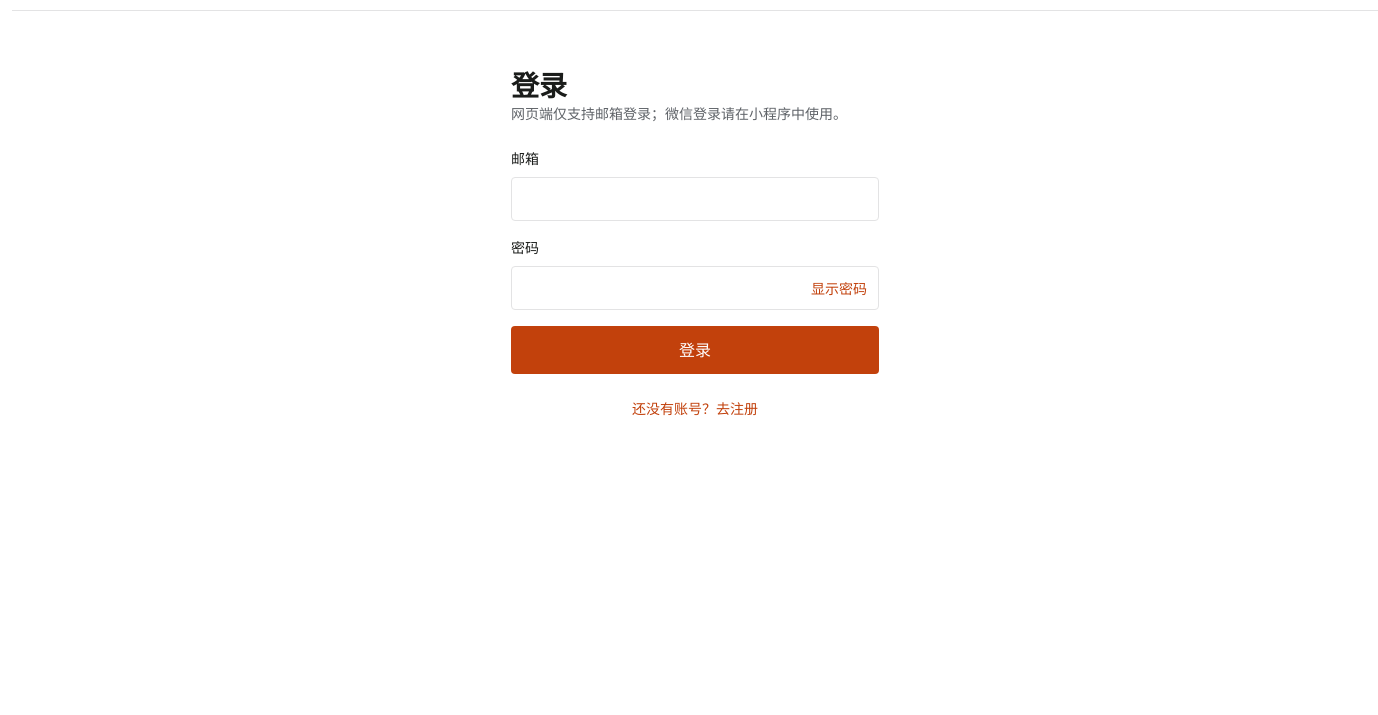
Test: success › navigates to /app on success
In the field labelled "邮箱": [695, 199] box 511,177 -> 879,221, type "a@b.c"
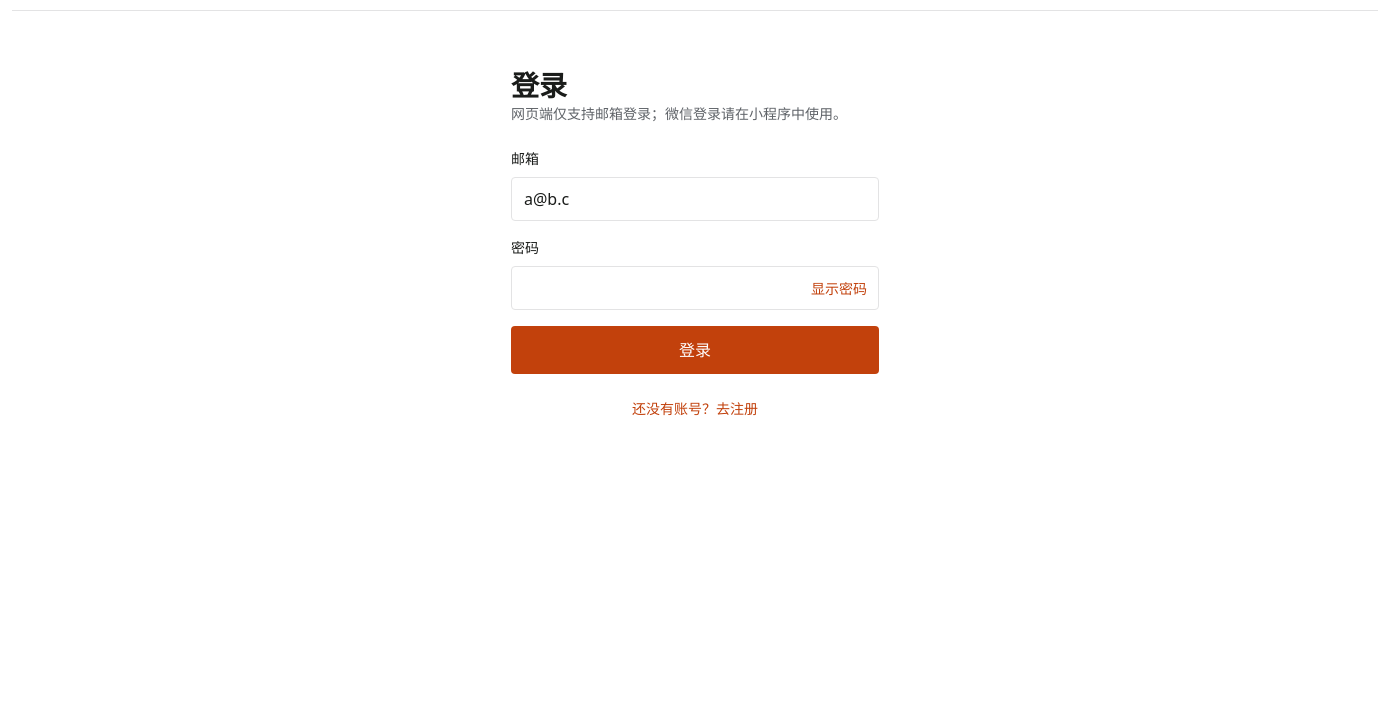
In the password field labelled "密码": [695, 288] box 511,266 -> 879,310, type "longenough"
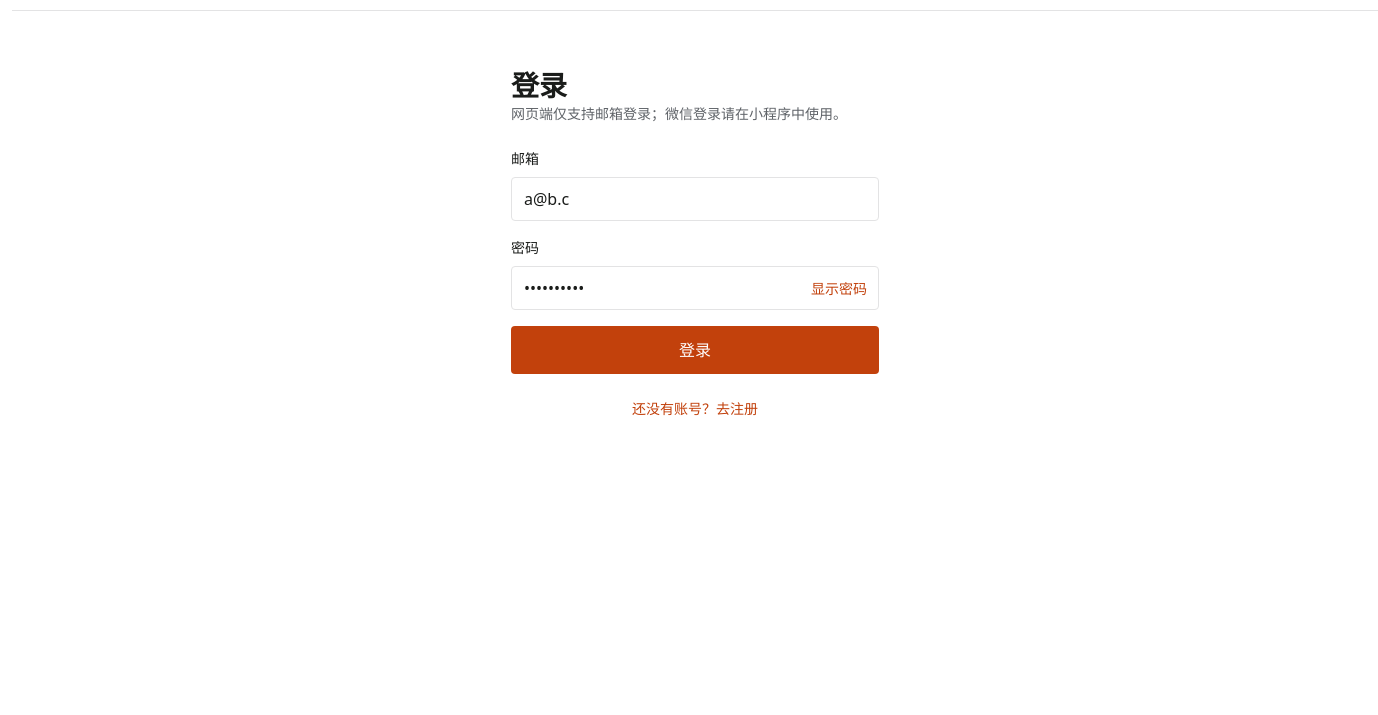
Click the button "登录": [695, 350] box 511,326 -> 879,374
(page scrolled)
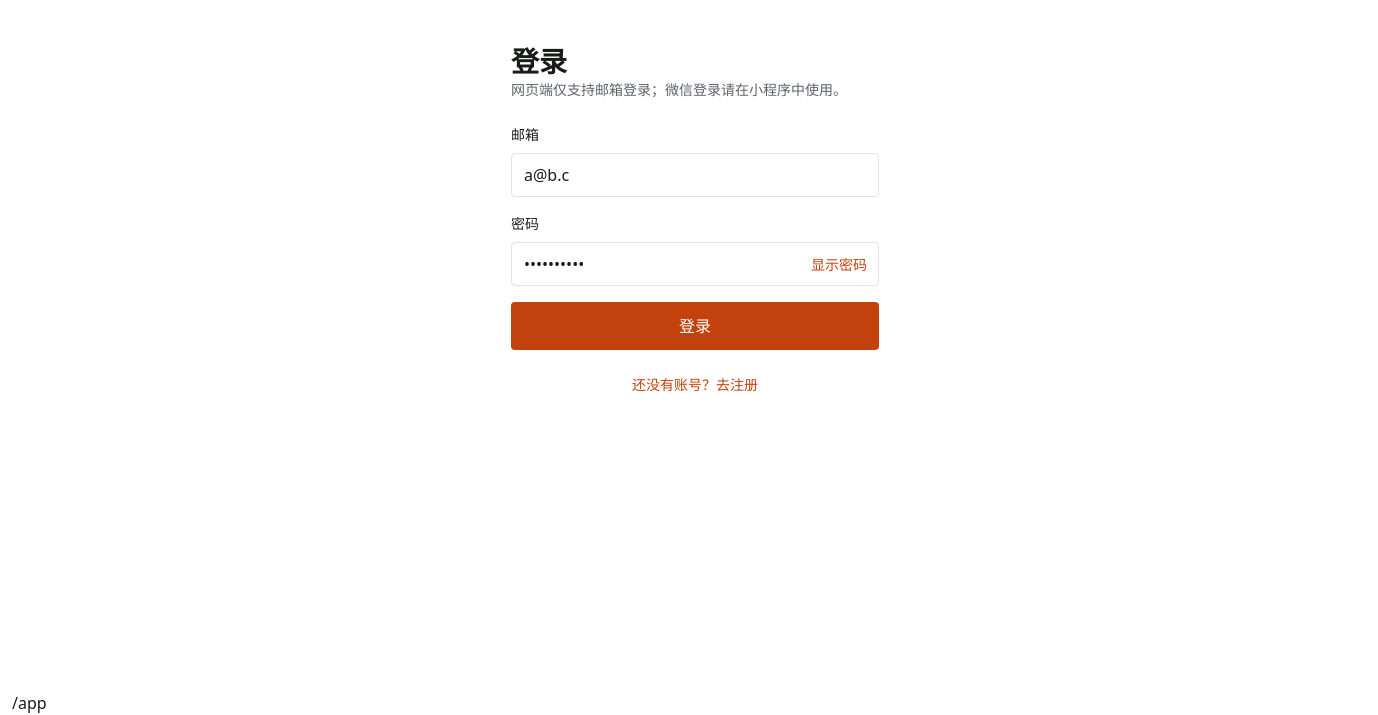
Expected: the text with test id "location" reads "/app", 12,692 -> 47,714
